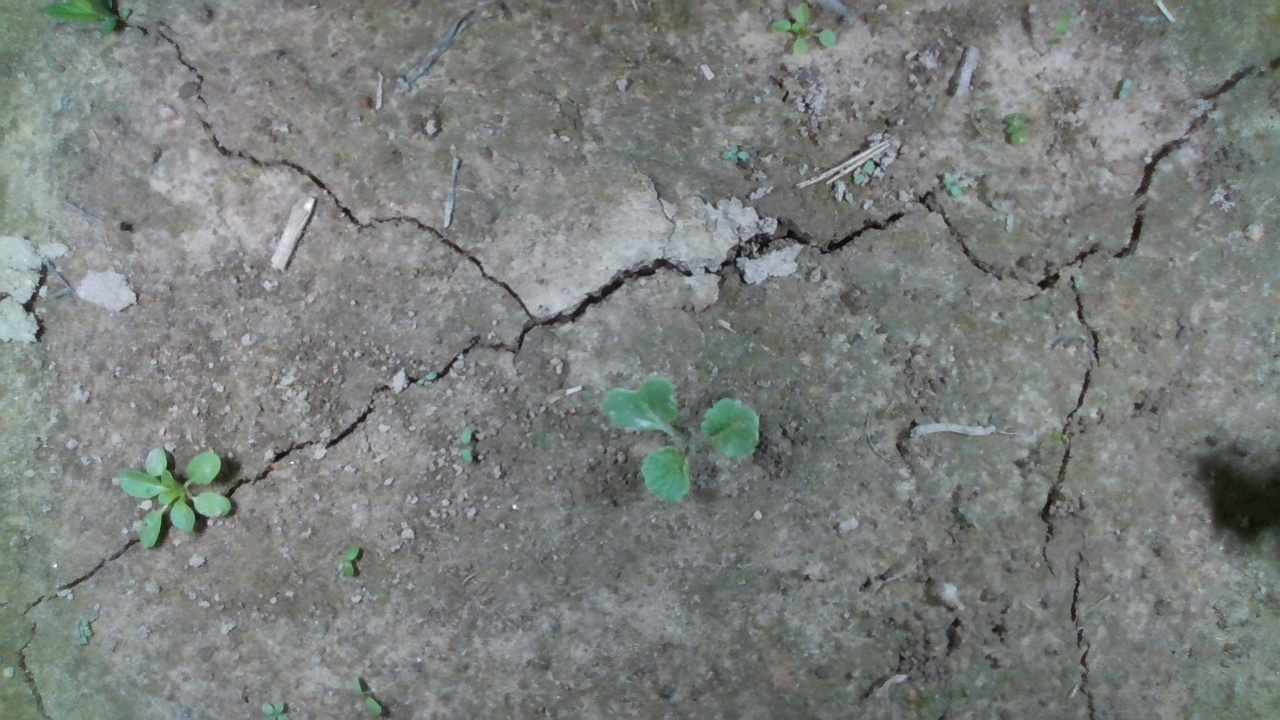weed: (765, 3, 838, 63), (450, 424, 487, 470), (334, 545, 372, 581)
